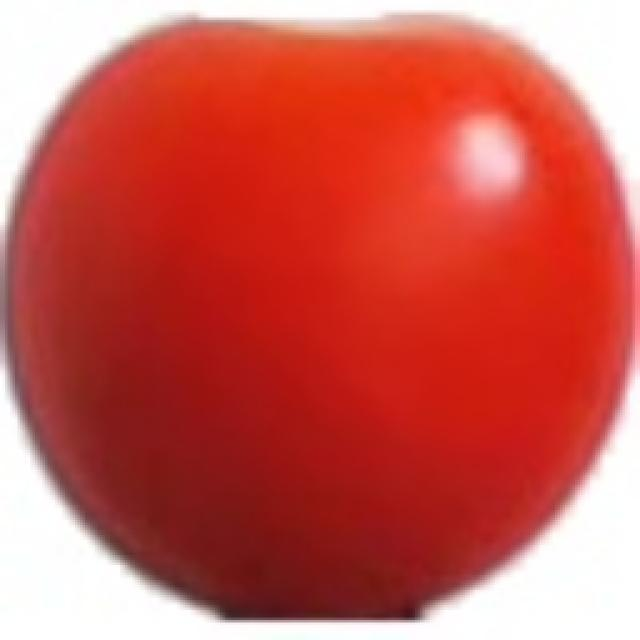tomato: (0, 17, 637, 624)
